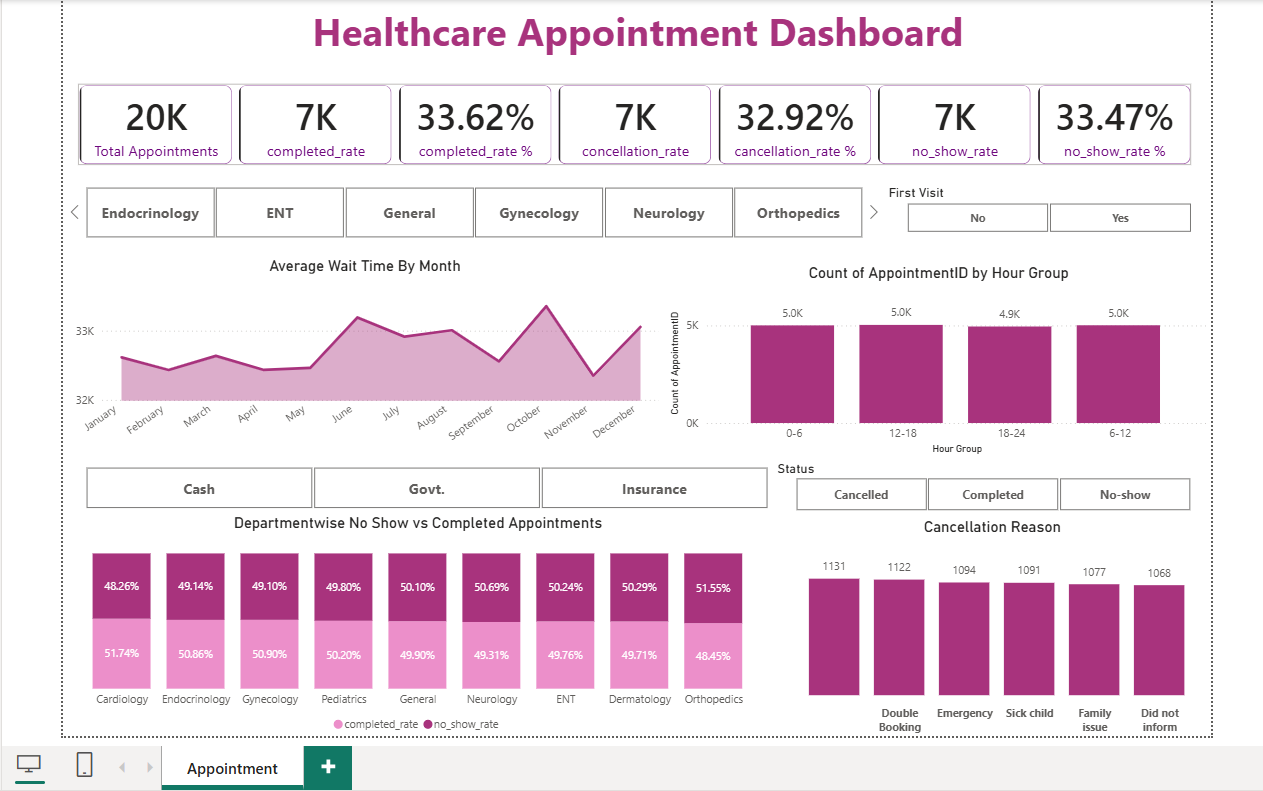

This screenshot's page, from the dashboard's own definition file:
{"tool":"powerbi","page":{"name":"Appointments","canvas":[1280,820],"ordinal":0},"visuals":[{"type":"cardVisual","fields":{"Data":["appointments.total_appointments","appointments.completed_rate","appointments.completed_rate %","appointments.concellation_rate","appointments.cancellation_rate %","appointments.no_show_rate","appointments.no_show_rate %"]},"box":[0,76.6,1280,124.7],"z":7},{"type":"areaChart","title":"Average Wait Time By Month","fields":{"Category":["appointments.AppointmentDateTime.Variation.Date Hierarchy.Month","appointments.AppointmentDateTime.Variation.Date Hierarchy.Day"],"Y":["appointments.Avg_wait_time"]},"box":[0,284.1,671.3,229.8],"z":8},{"type":"clusteredColumnChart","fields":{"Category":["appointments.Hour Group","appointments.Appointment Hour"],"Y":["CountNonNull(appointments.AppointmentID)"]},"box":[671.3,293.9,608.6,217.3],"z":9},{"type":"slicer","fields":{"Values":["appointments.Department"]},"box":[0,201.9,914.6,69.3],"z":10},{"type":"slicer","fields":{"Values":["appointments.PaymentType"]},"box":[0,513.9,808.8,59.2],"z":11},{"type":"hundredPercentStackedColumnChart","title":"Departmentwise No Show vs Completed Appointments","fields":{"Category":["appointments.Department"],"Y":["appointments.completed_rate","appointments.no_show_rate"]},"box":[0,572.4,791,247.9],"z":12},{"type":"slicer","title":"First Visit","fields":{"Values":["appointments.IsFirstVisit"]},"box":[915,206.1,365.4,59.2],"z":13},{"type":"slicer","title":"Status","fields":{"Values":["appointments.Status"]},"box":[791,513.9,488.8,61.7],"z":14},{"type":"textbox","box":[141.4,0,997.2,76.6],"z":15},{"type":"clusteredColumnChart","title":"Cancellation Reason","fields":{"Category":["appointments.CancellationReason"],"Y":["appointments.concellation_rate"]},"box":[791,576,489,244],"z":16}]}

Visuals, with their boxes on the page's 1280x820 design canvas (x1, y1, x2, y2). These are canvas units, not pixel positions in the 1263x791 screenshot, which may show the page scaled, cropped or inside an application window:
cardVisual - appointments.total_appointments x appointments.completed_rate: rect(0, 77, 1280, 201)
"Average Wait Time By Month" areaChart: rect(0, 284, 671, 514)
clusteredColumnChart - appointments.Hour Group x appointments.Appointment Hour: rect(671, 294, 1280, 511)
slicer - appointments.Department: rect(0, 202, 915, 271)
slicer - appointments.PaymentType: rect(0, 514, 809, 573)
"Departmentwise No Show vs Completed Appointments" hundredPercentStackedColumnChart: rect(0, 572, 791, 820)
"First Visit" slicer: rect(915, 206, 1280, 265)
"Status" slicer: rect(791, 514, 1280, 576)
textbox: rect(141, 0, 1139, 77)
"Cancellation Reason" clusteredColumnChart: rect(791, 576, 1280, 820)
